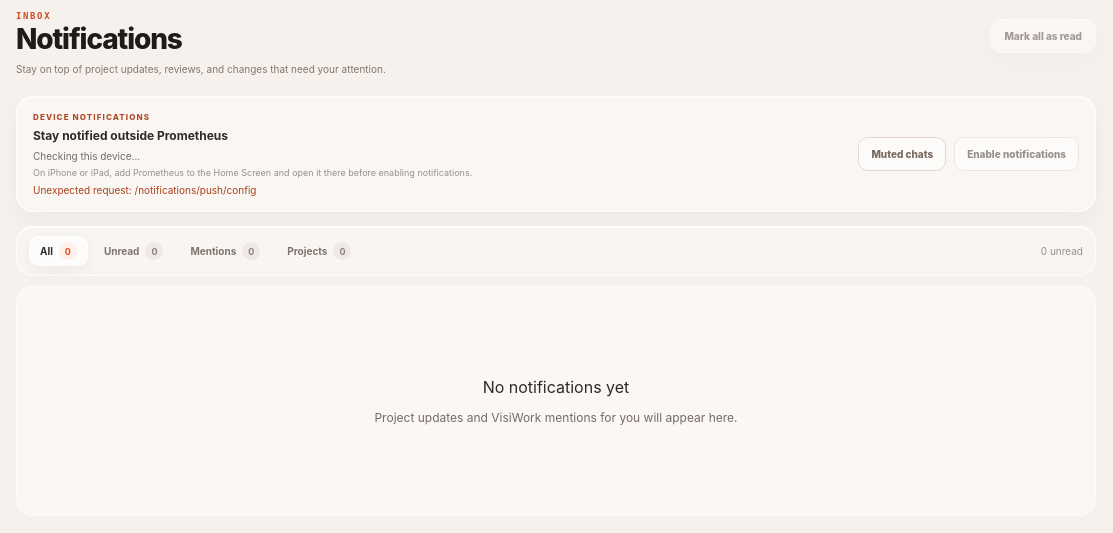
NotificationsPage › shows distinct empty inbox and filtered-empty states
Expected: the heading "No notifications yet" is shown, [483, 375, 629, 399]
Expected: the button "Mark all as read" is disabled, [990, 19, 1096, 53]
Click the tab "Unread 0" at {"x": 134, "y": 251}, box [93, 236, 174, 266]
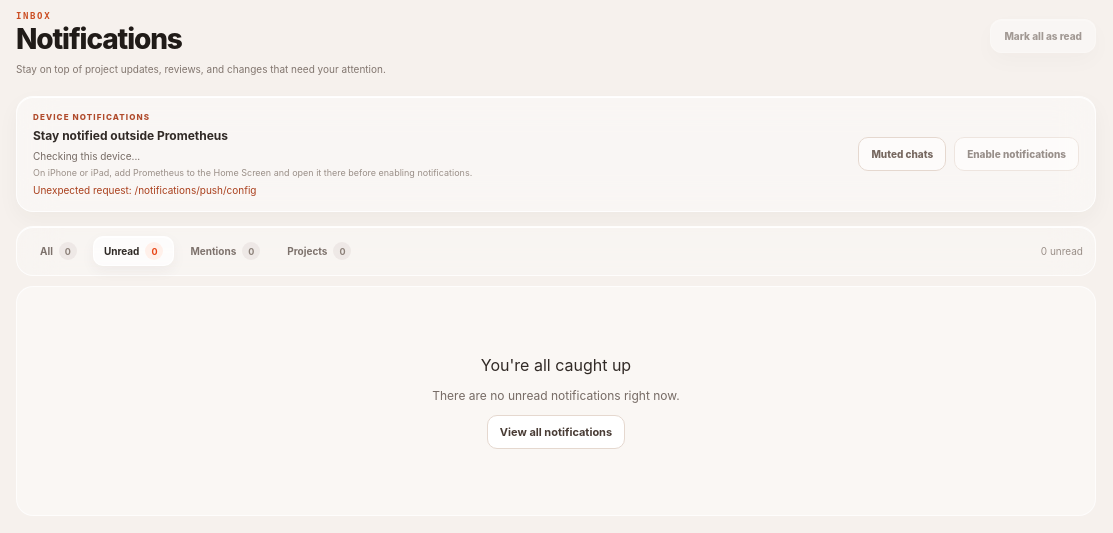
Now the heading "You're all caught up" is shown, box [481, 353, 631, 377]
Click the button "View all notifications" at {"x": 556, "y": 432}, box [487, 415, 625, 449]
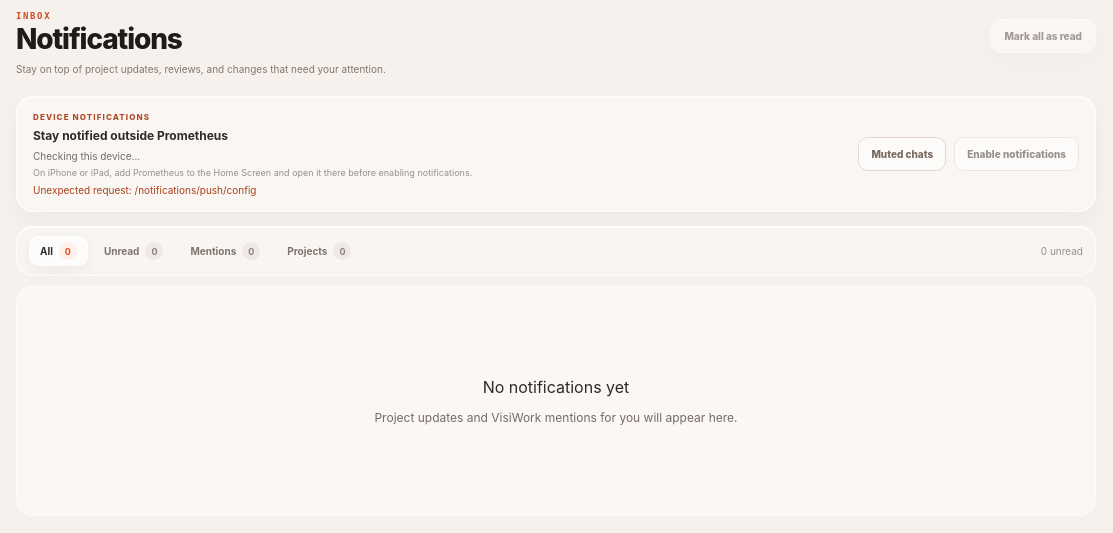
Now the heading "No notifications yet" is shown, box [483, 375, 629, 399]
